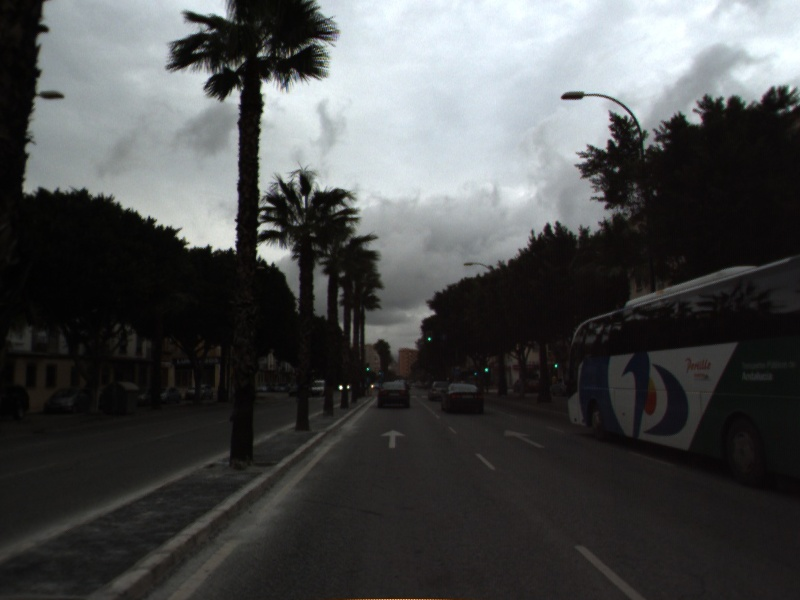STRAIGHT: (501, 426, 548, 450), (378, 427, 408, 450)
